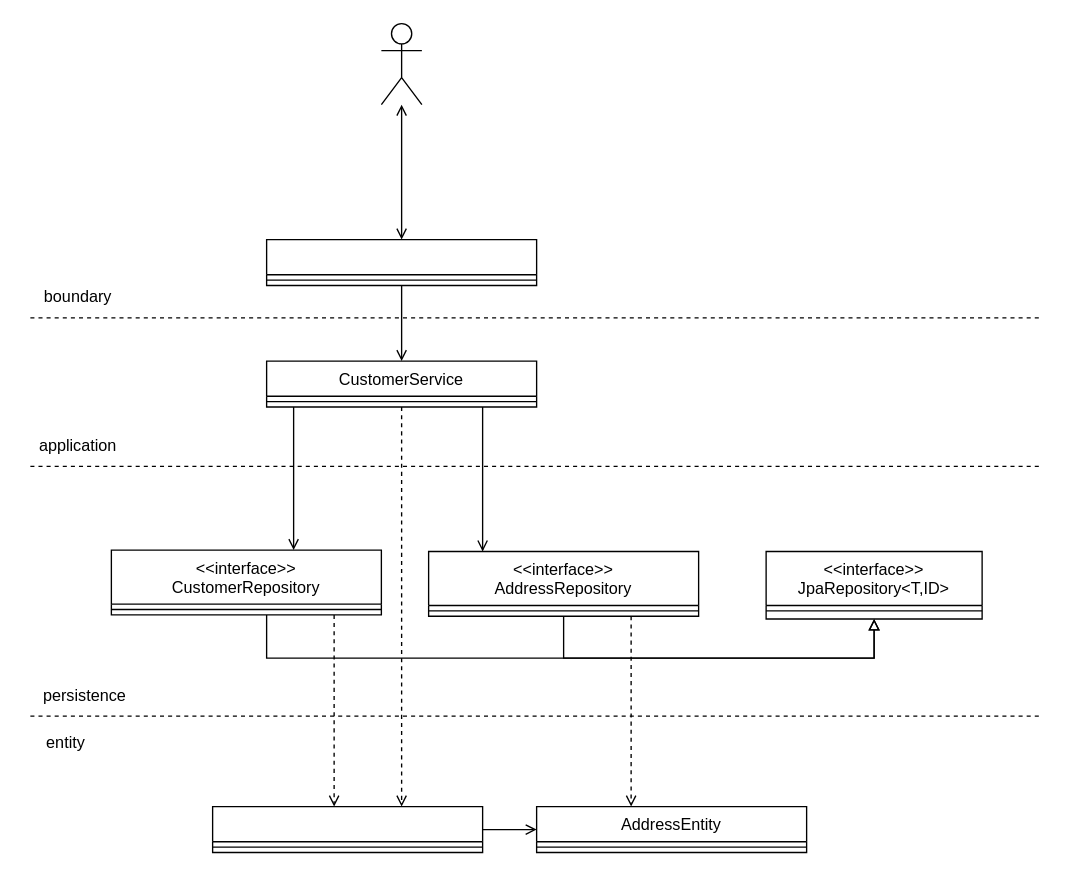
This 1068x876 diagram has some shape labels left out. Each missing label, with the centre of its shape:
"CustomerController" belongs at (401,262).
"CustomerEntity" belongs at (347,829).
